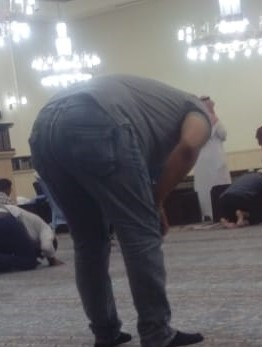ruku: (18, 58, 248, 347)
